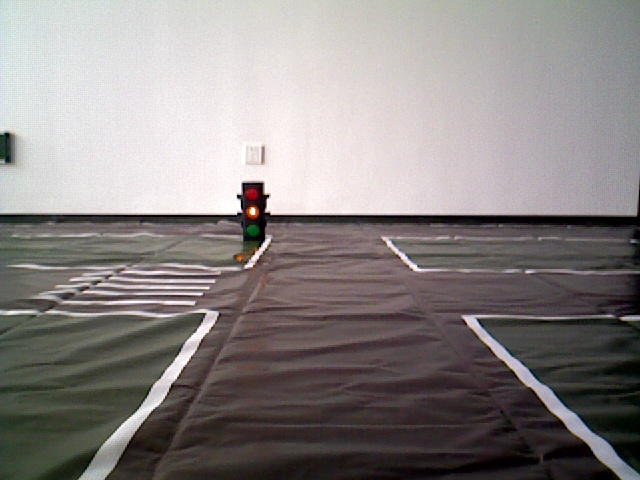yellow: (235, 178, 270, 244)
